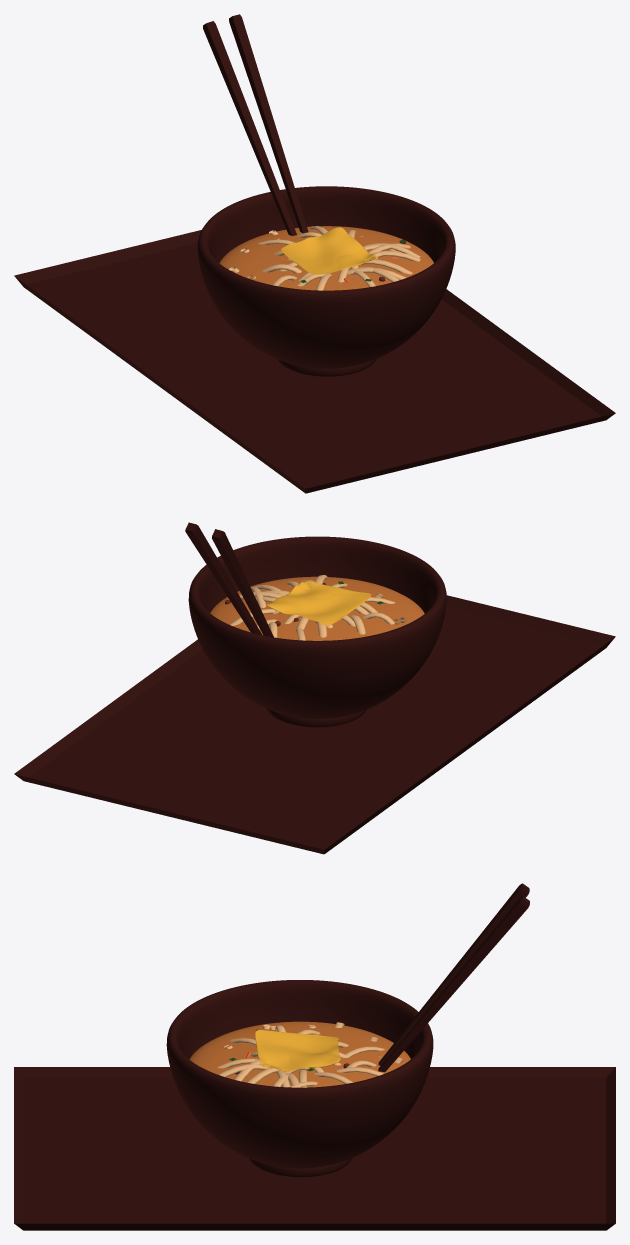
The model's file is KoreaCheeseRamen.glb.
3 renders of one model, top to bottom at view 1: azimuth 30°, elevation 25°; view 2: azimuth 150°, elevation 25°; view 3: azimuth 270°, elevation 25°, orthographic. The views are drawn at different scales.
Visible parts, largest first — view 1: Plate2, Plate, Chopstick, Gravy, Noodle, Cheese; view 2: Plate2, Plate, Gravy, Chopstick, Cheese, Noodle; view 3: Plate2, Plate, Gravy, Chopstick, Noodle, Cheese.
Part boxes in pixels (x1=…): Plate2: x1=14, y1=230, x2=615, y2=493; Plate: x1=197, y1=186, x2=455, y2=376; Chopstick: x1=203, y1=14, x2=308, y2=235; Gravy: x1=219, y1=226, x2=433, y2=290; Noodle: x1=229, y1=226, x2=420, y2=290; Cheese: x1=281, y1=227, x2=377, y2=274; Plate2: x1=14, y1=595, x2=615, y2=854; Plate: x1=188, y1=536, x2=446, y2=727; Gravy: x1=210, y1=576, x2=424, y2=640; Chopstick: x1=185, y1=522, x2=273, y2=637; Cheese: x1=266, y1=580, x2=371, y2=625; Noodle: x1=229, y1=575, x2=406, y2=640; Plate2: x1=14, y1=1067, x2=615, y2=1230; Plate: x1=166, y1=980, x2=433, y2=1177; Gravy: x1=189, y1=1021, x2=410, y2=1087; Chopstick: x1=378, y1=883, x2=529, y2=1072; Noodle: x1=217, y1=1022, x2=403, y2=1087; Cheese: x1=255, y1=1030, x2=340, y2=1071.
Bounding box in the file's own units: 2.73 × 2.18 × 4.43.
